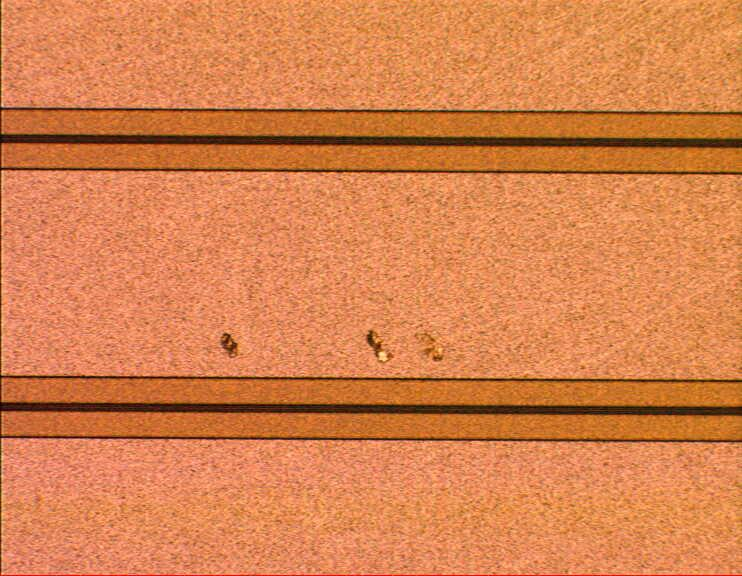SCRATCH: (201, 325, 471, 362)
